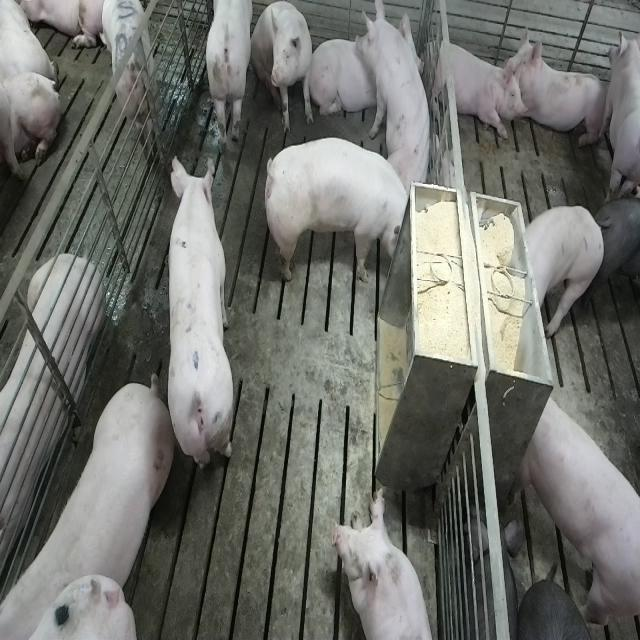Feeding: (268, 140, 415, 290)
Sitting: (358, 0, 434, 187), (251, 1, 315, 132)
Standing: (518, 391, 638, 629), (163, 154, 234, 480), (522, 206, 606, 338), (101, 2, 160, 158), (202, 2, 252, 154), (608, 24, 640, 201), (596, 190, 640, 312)
Sternal_lying: (0, 249, 102, 582), (332, 482, 437, 640), (510, 33, 610, 151), (424, 30, 524, 140), (311, 22, 384, 123)
